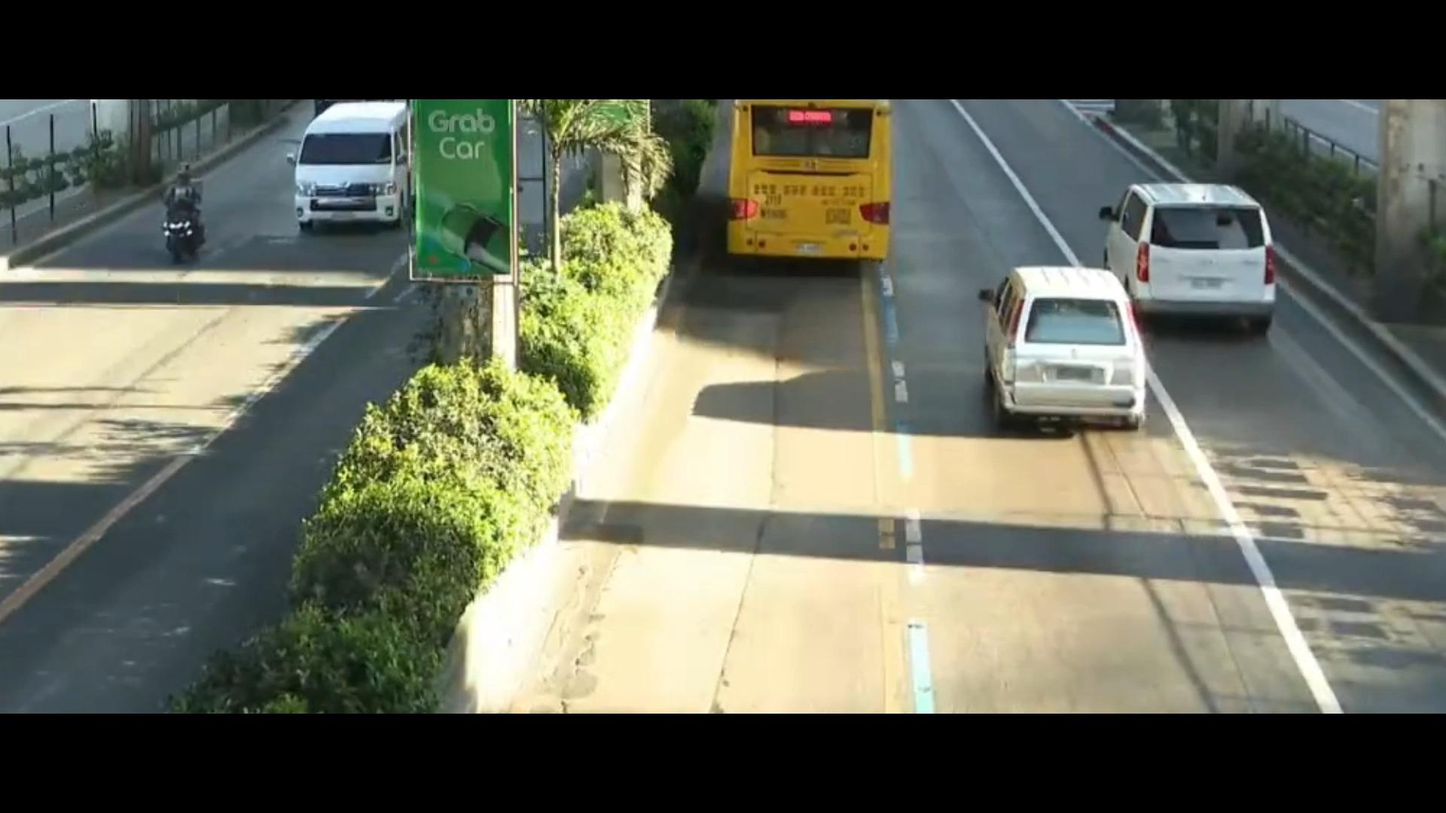Bus: (707, 102, 909, 285)
Motorcycle: (150, 149, 204, 271)
SUV: (953, 251, 1158, 462)
Van: (1108, 174, 1298, 322), (277, 98, 415, 247)
